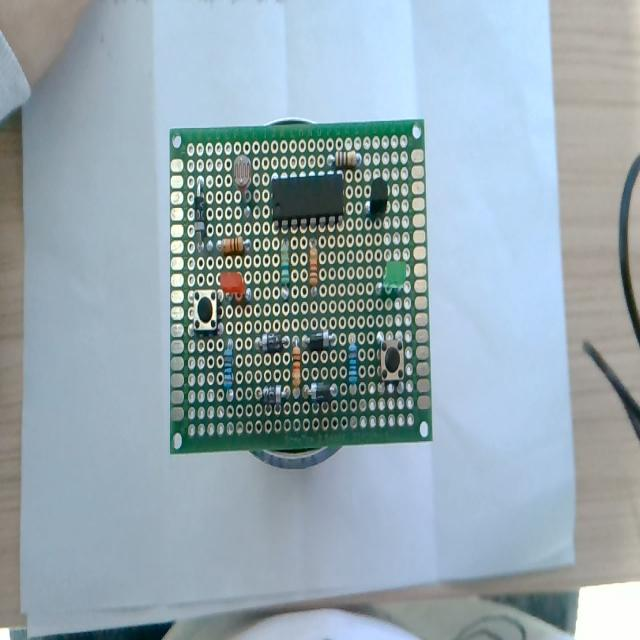IC: (266, 169, 351, 233)
cds: (230, 147, 258, 215)
diode: (191, 173, 210, 247), (302, 377, 340, 406), (254, 328, 288, 356), (302, 330, 338, 356), (254, 381, 288, 406)
led: (215, 263, 255, 313), (374, 256, 410, 308)
resistor: (346, 331, 360, 407), (290, 338, 306, 401), (224, 335, 237, 407), (325, 149, 363, 171), (307, 243, 321, 297), (277, 240, 290, 296), (216, 236, 252, 256)
switch: (378, 338, 408, 390), (190, 290, 217, 332)
transistor: (365, 172, 391, 228)
